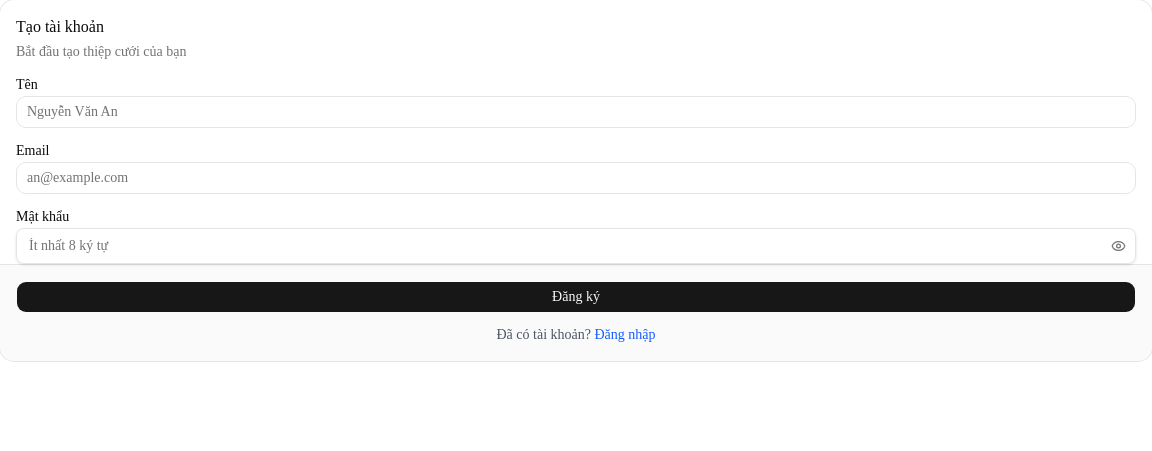
Scenario: RegisterPage › shows validation errors when submitting empty form
Click the button "Đăng ký": (576, 297) [16,281,1136,313]
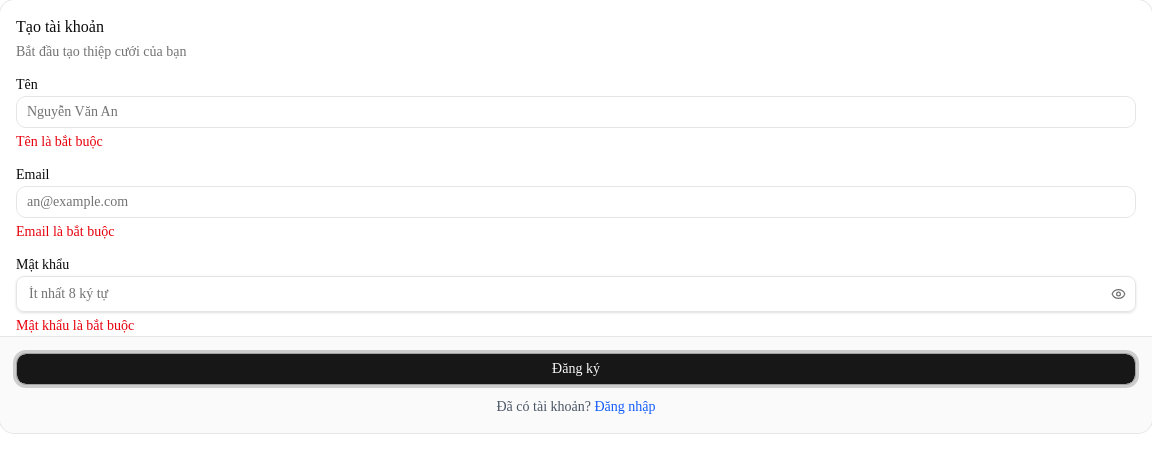
Expected: the text "Tên là bắt buộc" is shown, [16,134,103,149]
Expected: the text "Email là bắt buộc" is shown, [16,224,114,239]
Expected: the text "Mật khẩu là bắt buộc" is shown, [16,318,134,333]
